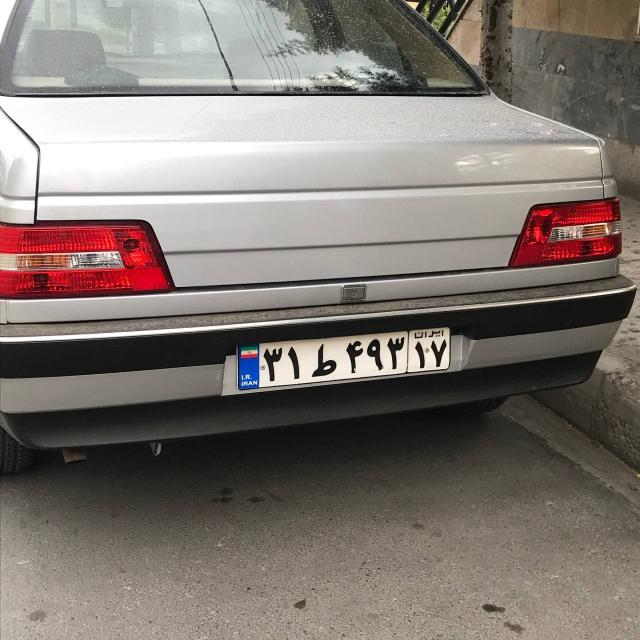Plates: (234, 323, 454, 390)
